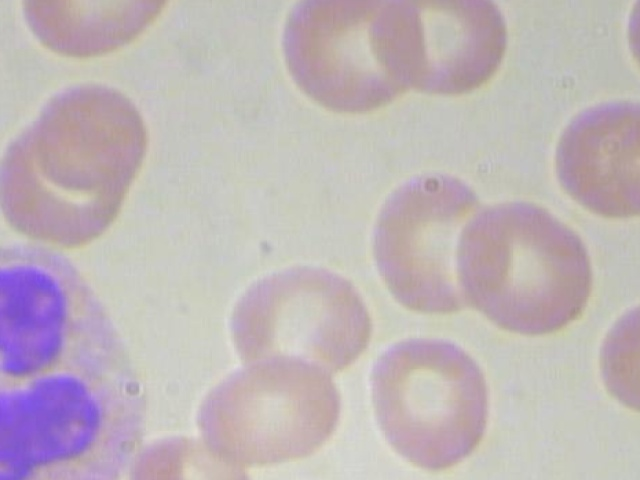RBC: (355, 168, 506, 317), (453, 196, 603, 345), (221, 255, 379, 386), (193, 343, 350, 474), (365, 330, 501, 475), (272, 0, 430, 119), (365, 0, 513, 110), (30, 75, 156, 190), (121, 431, 261, 480), (593, 286, 640, 424), (593, 109, 640, 225)
WBC: (0, 229, 192, 480)
